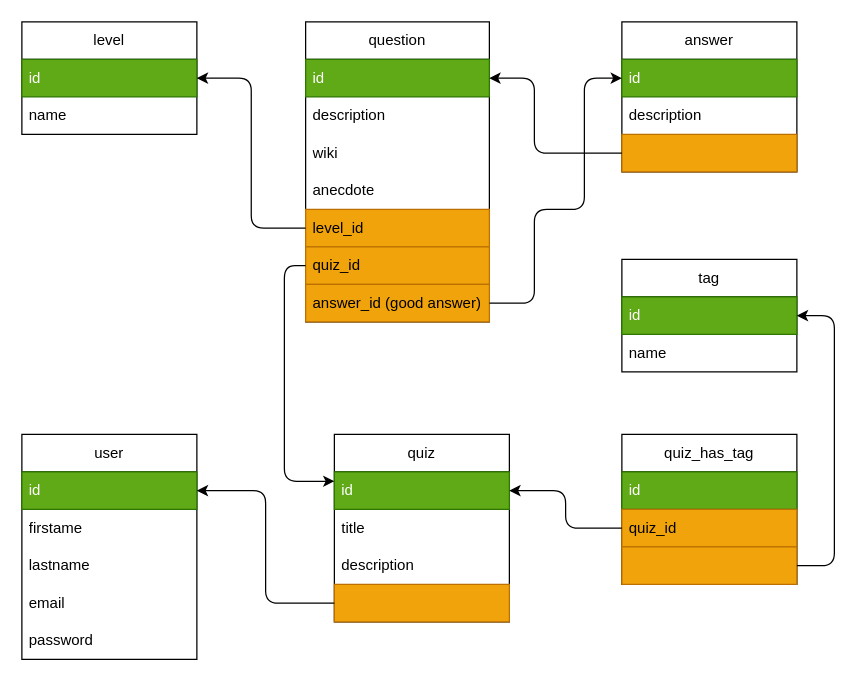
Some shapes in this 866 by 681 pixel diagram are drawn without their labels. The centre of each missing label's shape, as x and y in pixels:
"author_id" goes at (421,602).
"question_id" goes at (709,152).
"tag_id" goes at (709,565).
